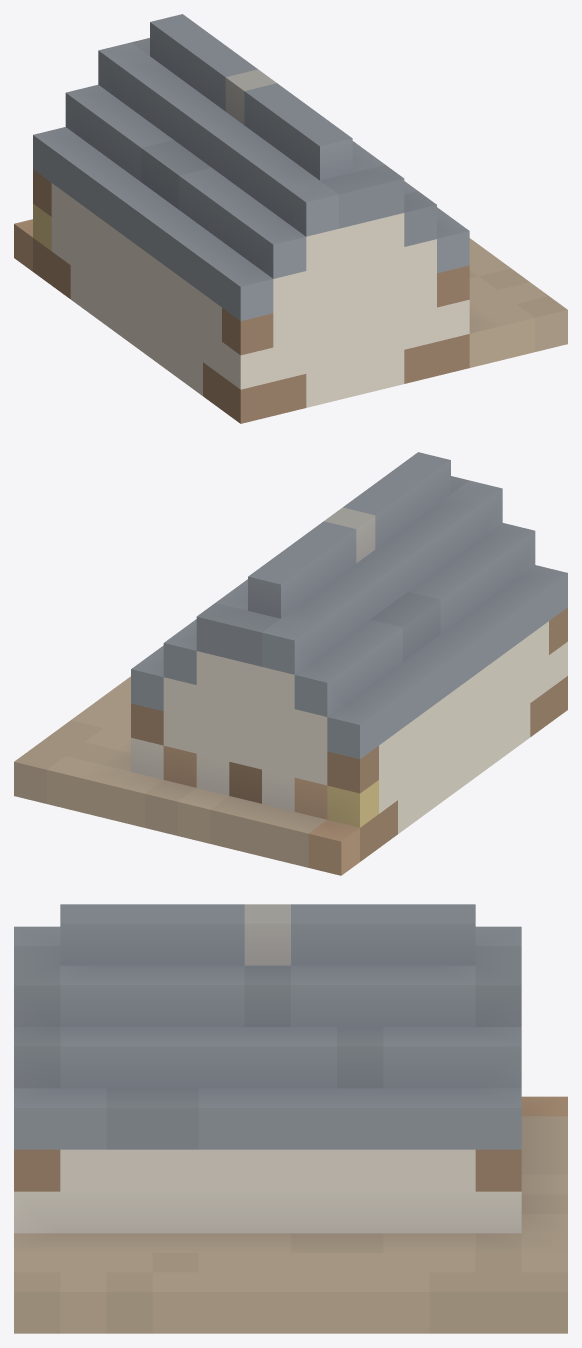
File: brewery.lite.glb
The picture shows the model from 3 angles, top to bottom: view 1: azimuth 30°, elevation 25°; view 2: azimuth 150°, elevation 25°; view 3: azimuth 270°, elevation 25°; orthographic projection. The views are drawn at different scales.
Parts seen in each view (by area): view 1: brewery; view 2: brewery; view 3: brewery.
Boxes of the visible parts, bbox=[...] form: brewery: bbox=[14, 14, 567, 423]; brewery: bbox=[14, 452, 567, 875]; brewery: bbox=[14, 904, 567, 1333].
Size of the model in its own units: 5 by 3.5 by 6.
